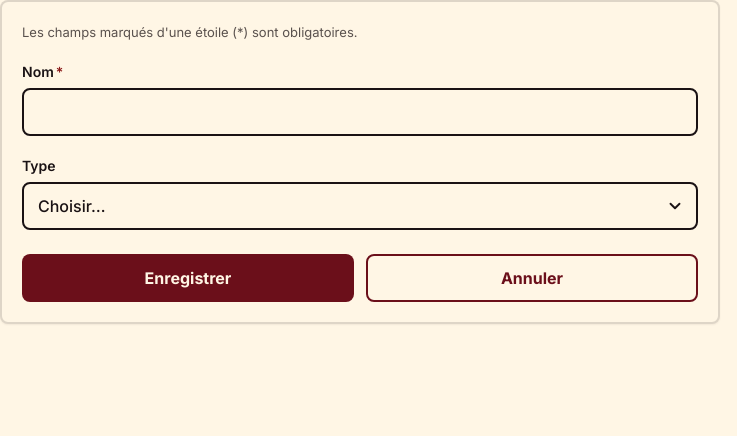
it: AdminForm › erreur de champ reliée, alerte globale, saisie conservée, focus sur le champ invalide
Step 1. Type "x" into the field labelled "Nom*" → (360, 112), box [22,88,698,136]
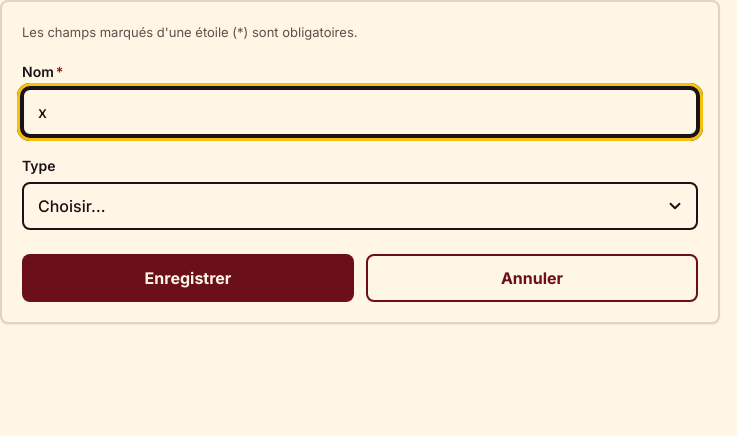
Step 2. Click the button "Enregistrer" → (188, 278), box [22,254,354,302]
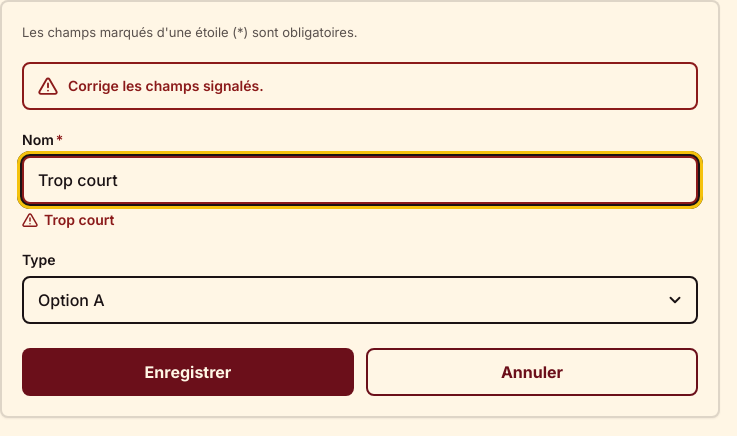
Now the field labelled "Nom*" holds "Trop court", box [22,156,698,204]
Now the dropdown labelled "Type" shows "Option A", box [22,276,698,324]
Now the message reads "Corrige les champs signalés.", box [68,77,264,94]
